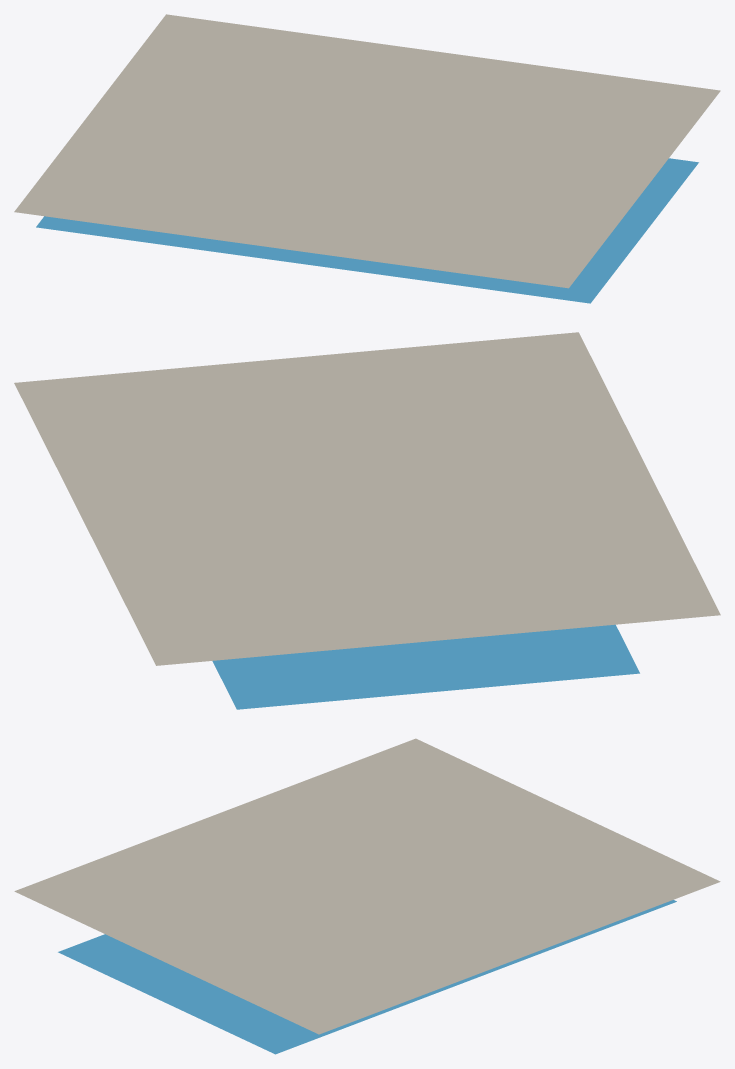
The picture shows the model from 3 angles, top to bottom: view 1: azimuth 30°, elevation 25°; view 2: azimuth 150°, elevation 25°; view 3: azimuth 270°, elevation 25°; orthographic projection. The views are drawn at different scales.
Parts seen in each view (by area): view 1: estructura_terreno, estructura_agua; view 2: estructura_terreno, estructura_agua; view 3: estructura_terreno, estructura_agua.
Part boxes in pixels (x1,y1,x2,y2): estructura_terreno: [14, 14, 720, 288]; estructura_agua: [36, 158, 698, 303]; estructura_terreno: [14, 332, 720, 665]; estructura_agua: [212, 624, 639, 709]; estructura_terreno: [14, 738, 720, 1034]; estructura_agua: [58, 900, 676, 1054].
Bounding box in the file's own units: 6.45 × 0.41 × 6.51.
